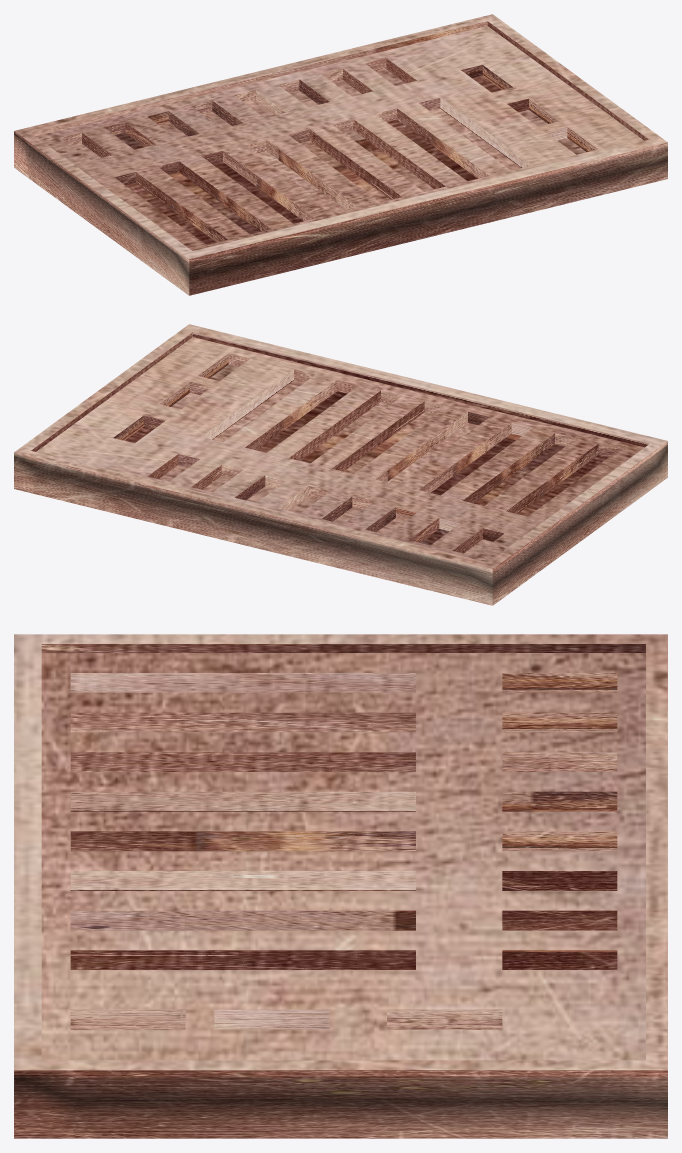
Rendered from RomeAbak.gltf.
3 views of the same model, one above another, from view 1: azimuth 30°, elevation 25°; view 2: azimuth 150°, elevation 25°; view 3: azimuth 270°, elevation 25° (orthographic). The views are drawn at different scales.
Visible parts, largest first — view 1: RomeAbak; view 2: RomeAbak; view 3: RomeAbak.
Part boxes in pixels (<box>): RomeAbak: <box>14,14,667,295</box>; RomeAbak: <box>14,324,667,605</box>; RomeAbak: <box>14,634,667,1138</box>.
Bounding box in the file's own units: 3.14 × 0.2299 × 1.99.
1 material, 1 textured.
